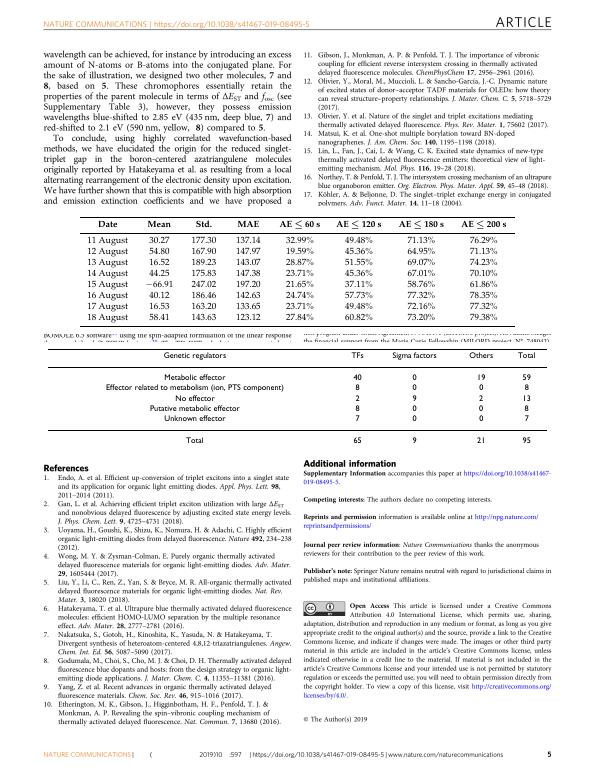borderless: (46, 347, 548, 454), (79, 215, 515, 326)
cell: (104, 384, 284, 394), (148, 404, 240, 414), (162, 351, 227, 361), (163, 374, 226, 383), (163, 415, 226, 424), (335, 220, 382, 230), (397, 220, 444, 230), (460, 220, 507, 230), (86, 236, 128, 247), (86, 247, 128, 258), (86, 258, 128, 269), (86, 269, 128, 280), (86, 280, 128, 291), (86, 291, 128, 302), (86, 302, 128, 313), (86, 313, 128, 324), (391, 351, 437, 361), (278, 220, 321, 230), (174, 394, 215, 404), (343, 236, 373, 247), (406, 236, 436, 247), (468, 236, 498, 247), (343, 247, 373, 258), (406, 247, 436, 258), (468, 247, 498, 258), (343, 258, 373, 269), (406, 258, 436, 269), (468, 258, 498, 269), (343, 269, 373, 280), (406, 269, 436, 280), (468, 269, 498, 280), (144, 280, 174, 291), (343, 280, 373, 291), (406, 280, 436, 291), (468, 280, 498, 291), (343, 291, 373, 302), (406, 291, 436, 302), (468, 291, 498, 302), (343, 302, 373, 313), (406, 302, 436, 313), (468, 302, 498, 313), (343, 313, 373, 324), (406, 313, 436, 324), (468, 313, 498, 324), (285, 236, 314, 247), (285, 247, 314, 258), (285, 258, 314, 269), (285, 269, 314, 280), (285, 280, 314, 291), (285, 291, 314, 302), (285, 302, 314, 313), (285, 313, 314, 324), (190, 236, 217, 247), (234, 236, 261, 247), (190, 247, 217, 258), (234, 247, 261, 258), (190, 258, 217, 269), (234, 258, 261, 269), (190, 269, 217, 280), (234, 269, 261, 280), (190, 280, 217, 291), (234, 280, 261, 291), (190, 291, 217, 302), (234, 291, 261, 302), (190, 302, 217, 313), (234, 302, 261, 313), (190, 313, 217, 324), (234, 313, 261, 324), (468, 351, 494, 361), (148, 236, 170, 247), (148, 247, 170, 258), (148, 258, 170, 269), (148, 269, 170, 280), (148, 291, 170, 302), (148, 302, 170, 313), (148, 313, 170, 324), (146, 220, 172, 228), (516, 351, 536, 361), (185, 437, 204, 447), (236, 220, 259, 228), (96, 220, 118, 228), (194, 220, 212, 228), (350, 351, 364, 361), (521, 394, 531, 404), (352, 437, 362, 447), (476, 437, 486, 447), (521, 437, 531, 447), (352, 374, 362, 383), (476, 374, 486, 383), (521, 374, 531, 383), (354, 384, 360, 394), (411, 384, 417, 394), (478, 384, 484, 394), (523, 384, 529, 394), (354, 394, 360, 404), (411, 394, 417, 404), (478, 394, 484, 404), (354, 404, 360, 414), (411, 404, 417, 414), (478, 404, 484, 414), (523, 404, 529, 414), (411, 437, 417, 447), (411, 374, 417, 383), (354, 415, 360, 424), (411, 415, 417, 424), (478, 415, 484, 424), (523, 415, 529, 424)
